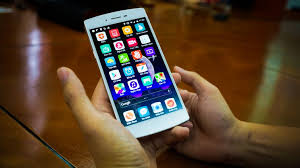bphone: (78, 6, 192, 137)
